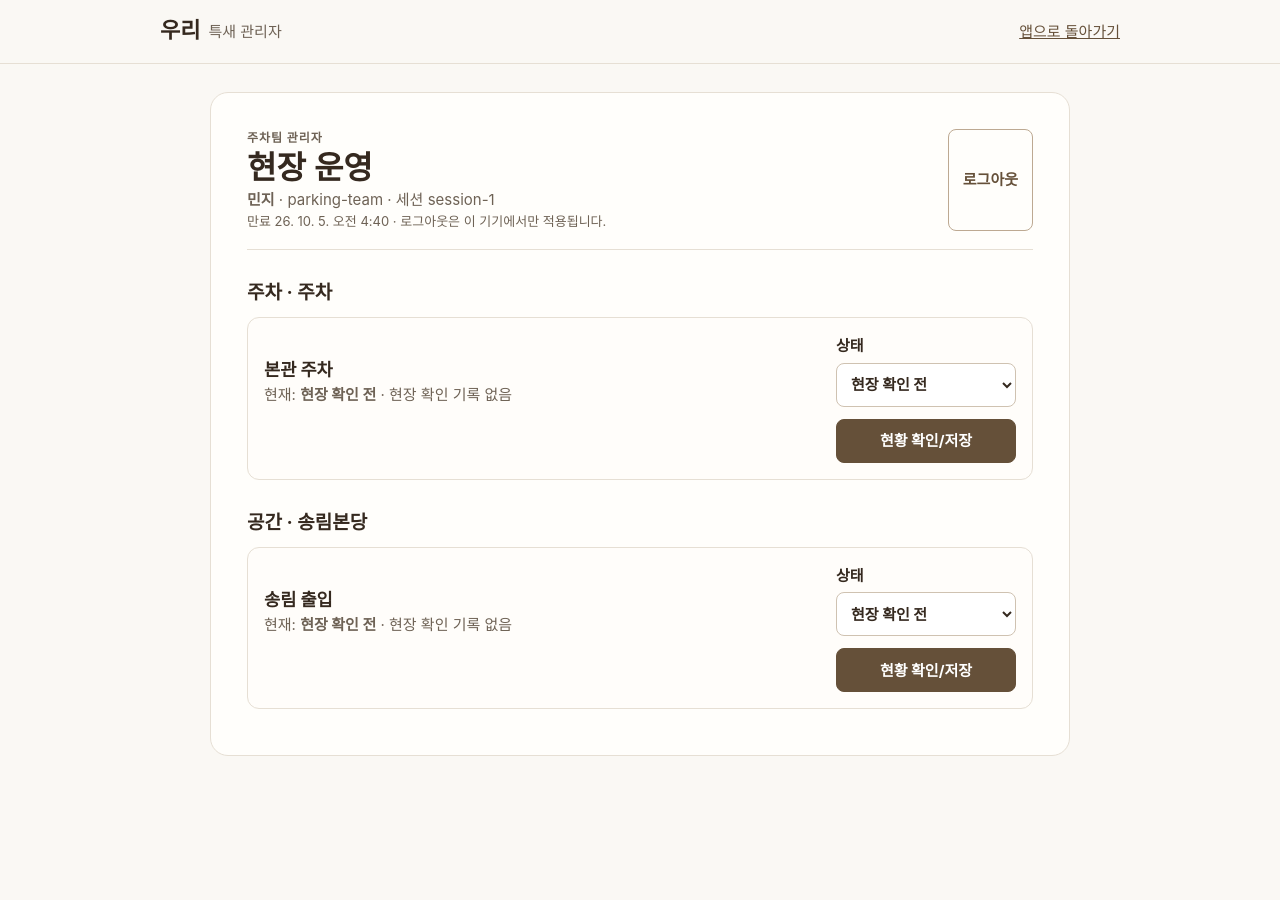
Scenario: role-aware AdminApp › does not restore private UI from a stale response after logout
Expected: the heading "현장 운영" is shown, [247,150,373,186]
Select "혼잡" in the dropdown named "본관 주차 상태" at (926, 385), box [836,363,1016,407]
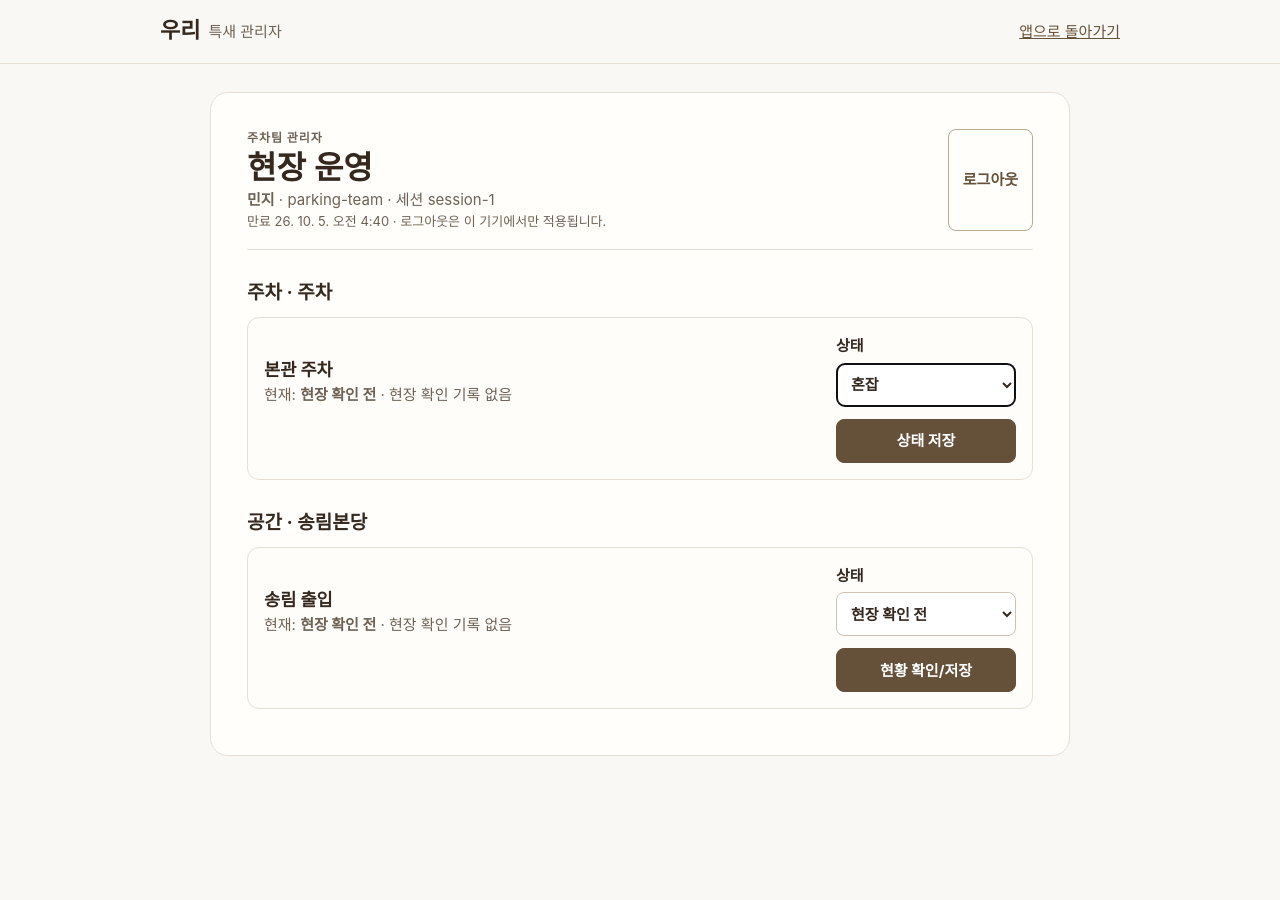
Click the button "상태 저장" at (926, 441), box [836,419,1016,463]
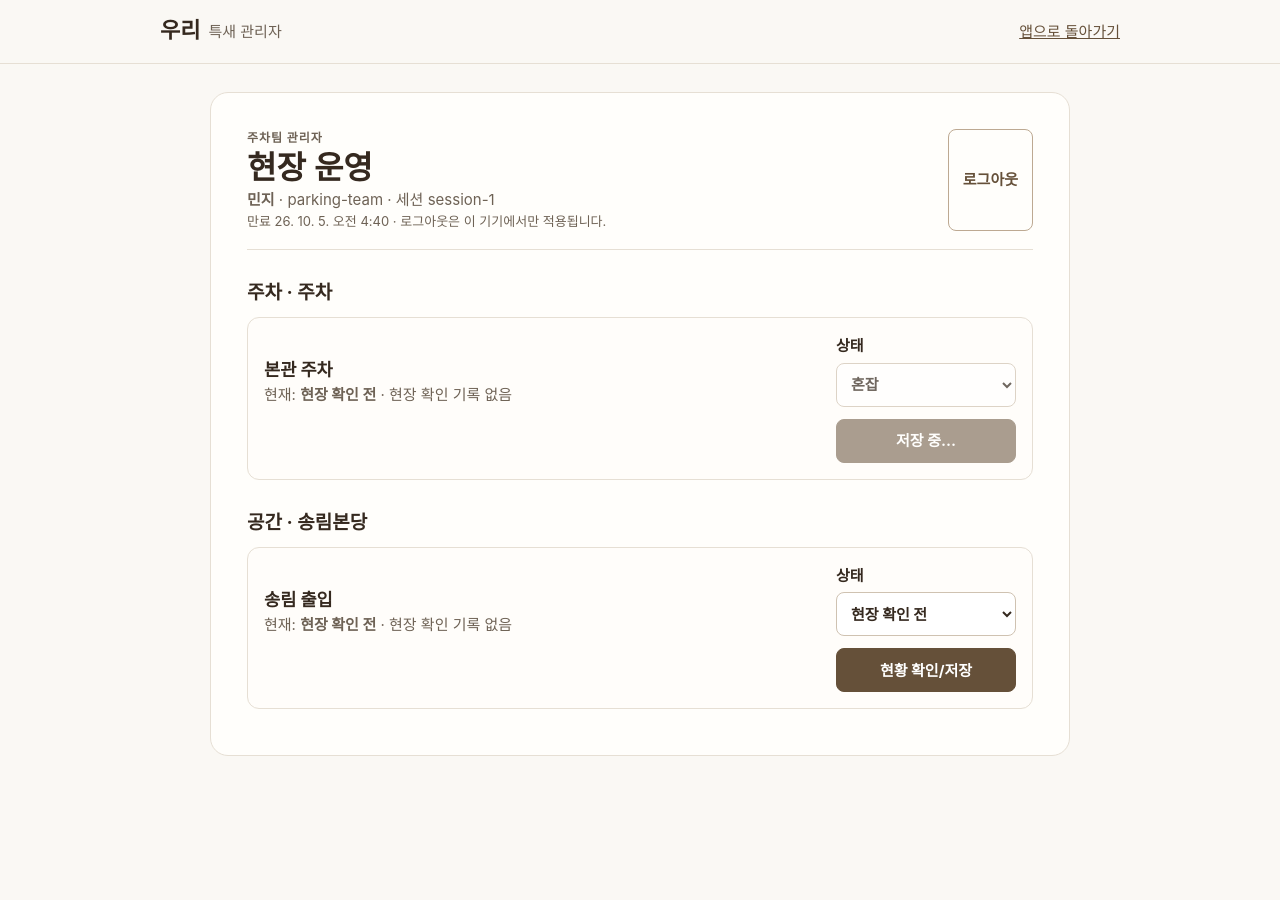
Click the button "로그아웃" at (990, 180), box [948,129,1033,231]
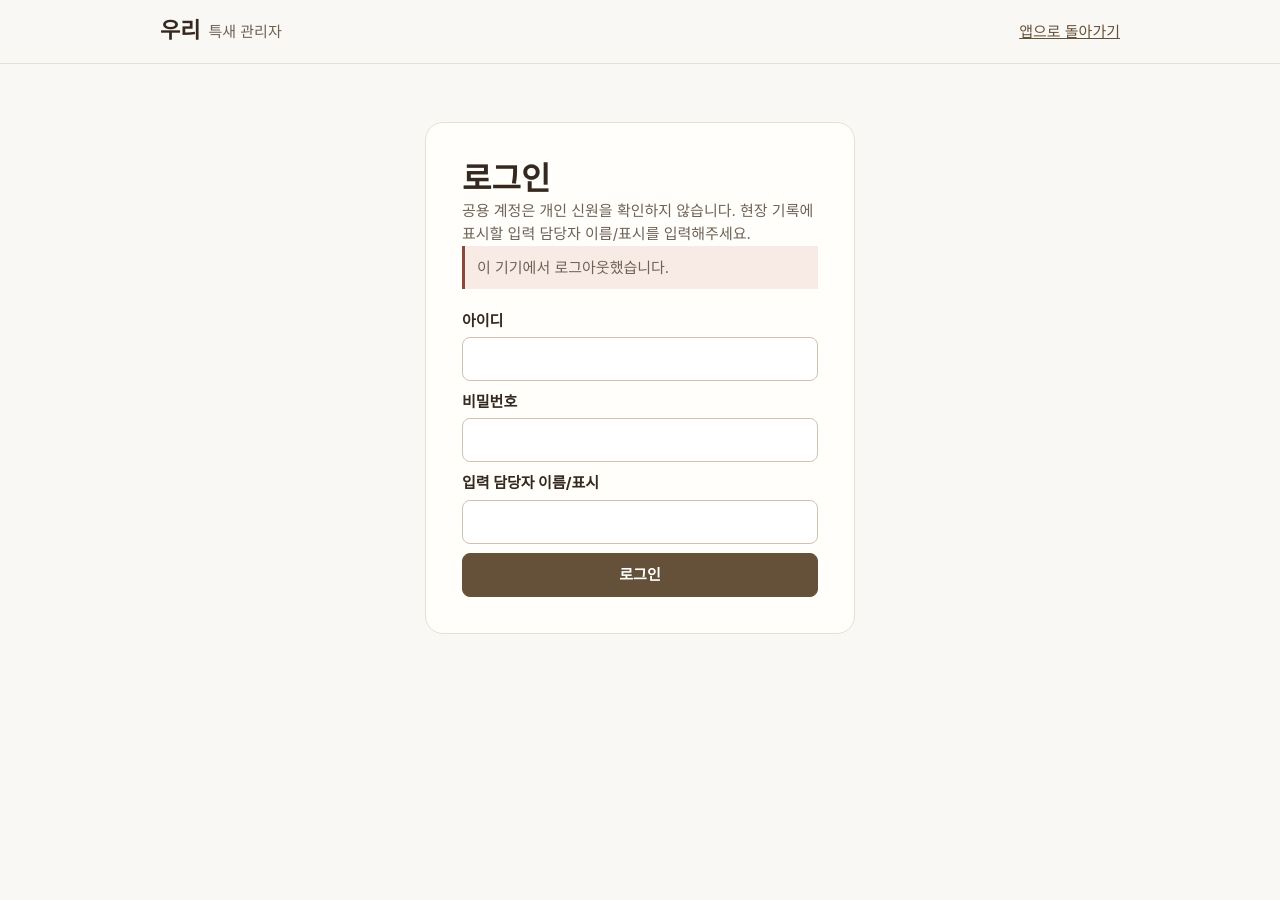
Expected: the heading "로그인" is shown, [462,161,550,197]
Expected: the heading "현장 운영" is gone
